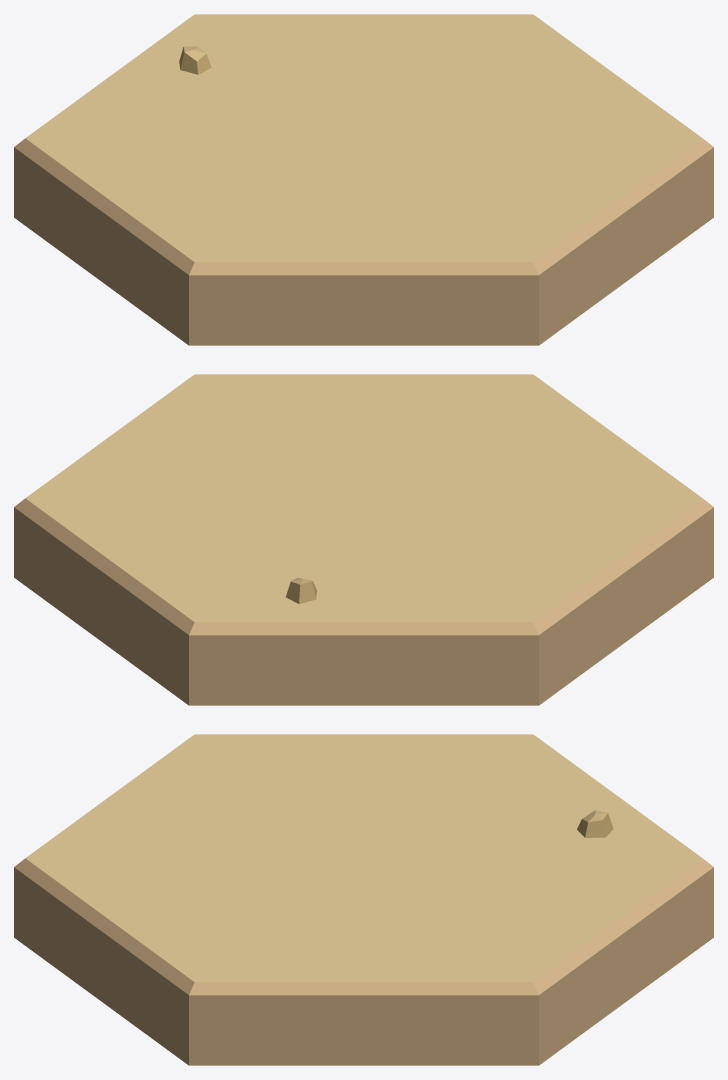
Rendered from tile_sand_1.fbx.
The picture shows the model from 3 angles, top to bottom: view 1: azimuth 30°, elevation 25°; view 2: azimuth 150°, elevation 25°; view 3: azimuth 270°, elevation 25°; orthographic projection.
Visible parts, largest first — view 1: tile_sand_1; view 2: tile_sand_1; view 3: tile_sand_1.
Part boxes in pixels (box(x1,y1,x2,y2)): tile_sand_1: box(14, 14, 713, 345); tile_sand_1: box(14, 374, 713, 705); tile_sand_1: box(14, 734, 713, 1065).
Size of the model in its own units: 1.73 by 0.3038 by 2.
